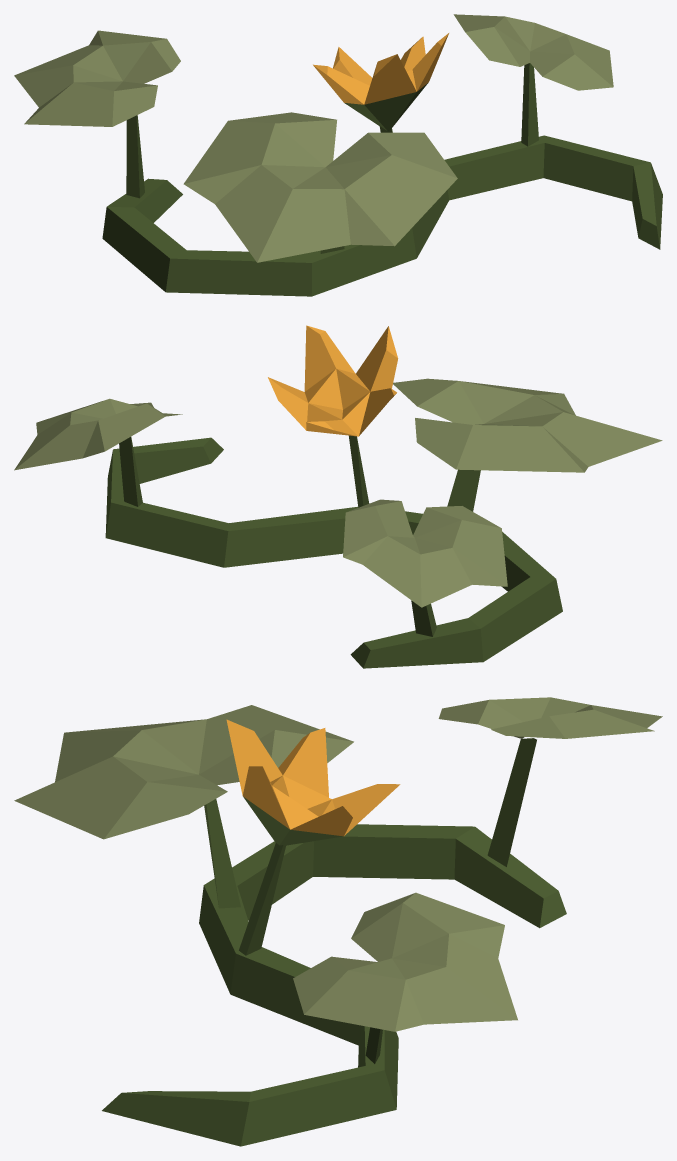
The model's file is leafy_plant_03.glb.
3 renders of one model, top to bottom at view 1: azimuth 30°, elevation 25°; view 2: azimuth 150°, elevation 25°; view 3: azimuth 270°, elevation 25°, orthographic. The views are drawn at different scales.
Visible parts, largest first — view 1: SM_Prop_Plant_Ground_03_L; view 2: SM_Prop_Plant_Ground_03_L; view 3: SM_Prop_Plant_Ground_03_L.
Part boxes in pixels (left/top/right/bottom): SM_Prop_Plant_Ground_03_L: left=14, top=14, right=662, bottom=296; SM_Prop_Plant_Ground_03_L: left=14, top=325, right=662, bottom=668; SM_Prop_Plant_Ground_03_L: left=14, top=697, right=662, bottom=1146.
Size of the model in its own units: 1.06 by 0.4079 by 0.9139.
1 material, 1 textured.
